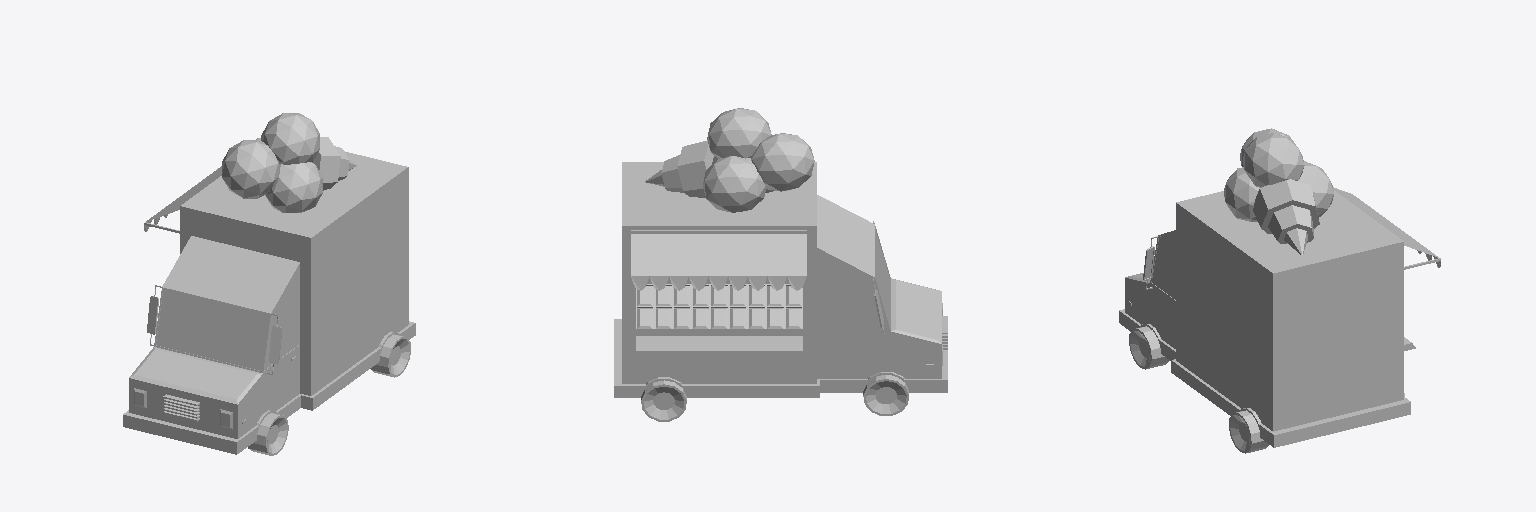
Rendered from IceCar.obj.
The picture shows the model from 3 angles: view 1: azimuth 30°, elevation 25°; view 2: azimuth 150°, elevation 25°; view 3: azimuth 270°, elevation 25°; orthographic projection.
Visible parts, largest first — view 1: Cube.187, Cone.001, Cube.188, Cylinder.007, Cylinder.005, Cylinder.006, Cube.191, Plane.015; view 2: Cube.187, Cone.001, Plane.015, Cylinder.007, Cube.188, Cylinder.004, Cylinder.008, Cube.190; view 3: Cube.187, Cone.001, Cylinder.007, Cube.188, Cylinder.005, Cylinder.006, Plane.015.
Boxes of the visible parts, x1=… form: Cube.187: x1=129, y1=151, x2=408, y2=438; Cone.001: x1=222, y1=113, x2=356, y2=212; Cube.188: x1=156, y1=267, x2=298, y2=370; Cylinder.007: x1=123, y1=321, x2=415, y2=454; Cylinder.005: x1=248, y1=413, x2=288, y2=455; Cylinder.006: x1=370, y1=334, x2=410, y2=377; Cube.191: x1=147, y1=285, x2=281, y2=374; Plane.015: x1=144, y1=166, x2=221, y2=231; Cube.187: x1=622, y1=162, x2=947, y2=383; Cone.001: x1=645, y1=108, x2=814, y2=212; Plane.015: x1=631, y1=234, x2=806, y2=290; Cylinder.007: x1=614, y1=319, x2=947, y2=397; Cube.188: x1=819, y1=233, x2=889, y2=329; Cylinder.004: x1=863, y1=375, x2=908, y2=415; Cylinder.008: x1=641, y1=380, x2=686, y2=421; Cube.190: x1=631, y1=230, x2=806, y2=277; Cube.187: x1=1125, y1=190, x2=1415, y2=431; Cone.001: x1=1224, y1=128, x2=1333, y2=254; Cylinder.007: x1=1119, y1=309, x2=1410, y2=447; Cube.188: x1=1152, y1=232, x2=1175, y2=299; Cylinder.005: x1=1129, y1=326, x2=1169, y2=369; Cylinder.006: x1=1229, y1=410, x2=1268, y2=453; Plane.015: x1=1333, y1=187, x2=1440, y2=267.
Size of the model in its own units: 5.45 by 4.5 by 4.85.